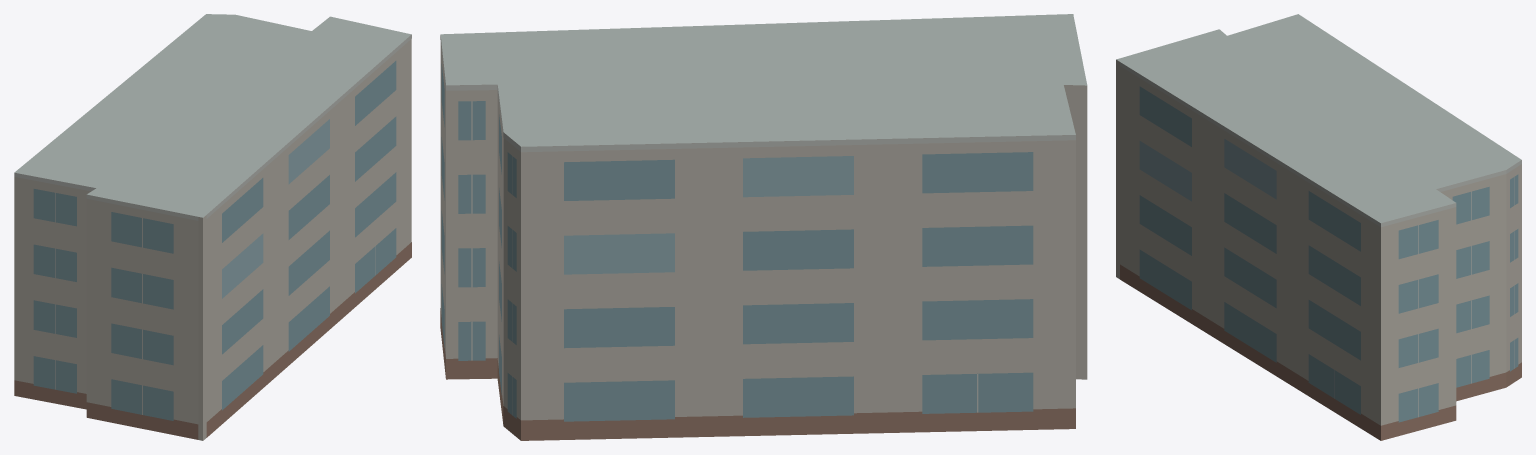
Rendered from survey-upis-32912020.glb.
The picture shows the model from 3 angles, left to right: view 1: azimuth 30°, elevation 25°; view 2: azimuth 150°, elevation 25°; view 3: azimuth 270°, elevation 25°; orthographic projection. The views are drawn at different scales.
Visible parts, largest first — view 1: survey-upis-32912020.tmp; view 2: survey-upis-32912020.tmp; view 3: survey-upis-32912020.tmp.
Part boxes in pixels (x1,y1,x2,y2): survey-upis-32912020.tmp: [14, 14, 411, 440]; survey-upis-32912020.tmp: [440, 14, 1087, 440]; survey-upis-32912020.tmp: [1116, 14, 1521, 440].
Size of the model in its own units: 27.03 by 13.1 by 22.14.
